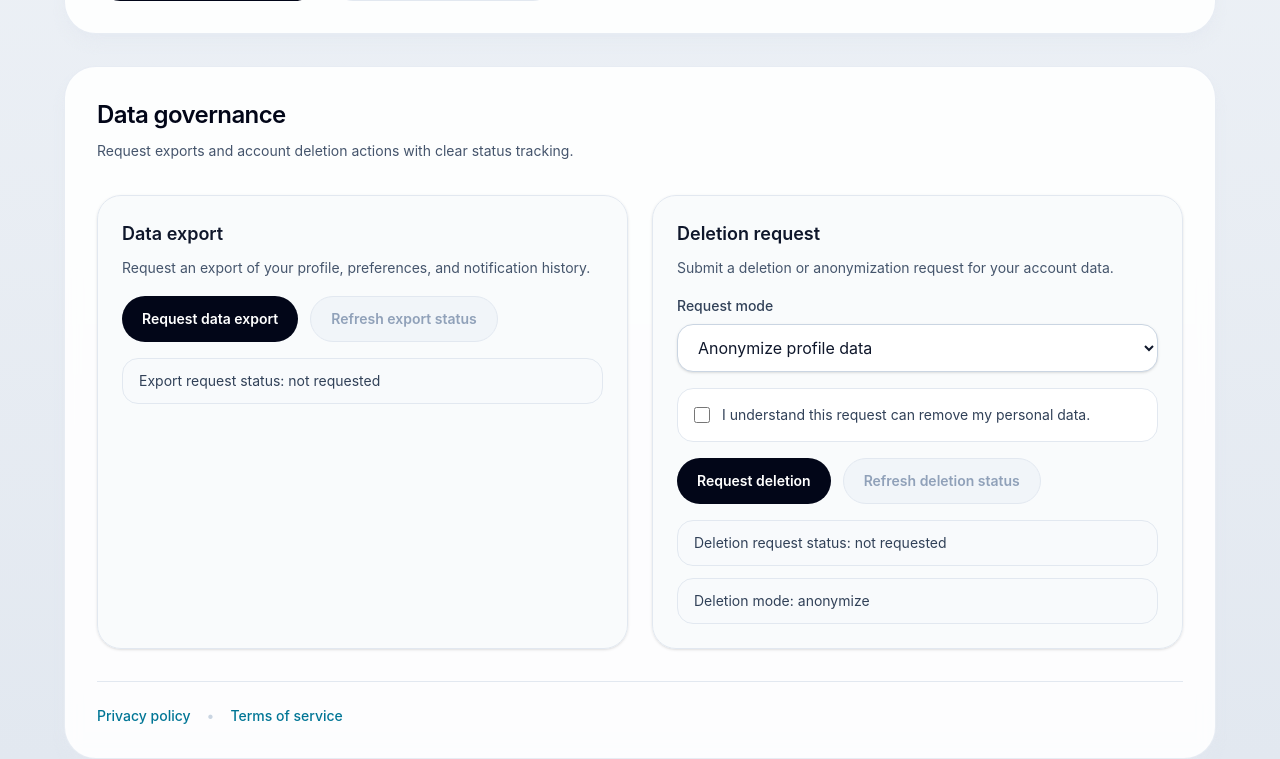
Test: SettingsPreferencesForm › requires explicit confirmation before deletion request
(page scrolled)
Click the button "Request deletion" at (754, 481), box [677, 458, 831, 504]
(page scrolled)
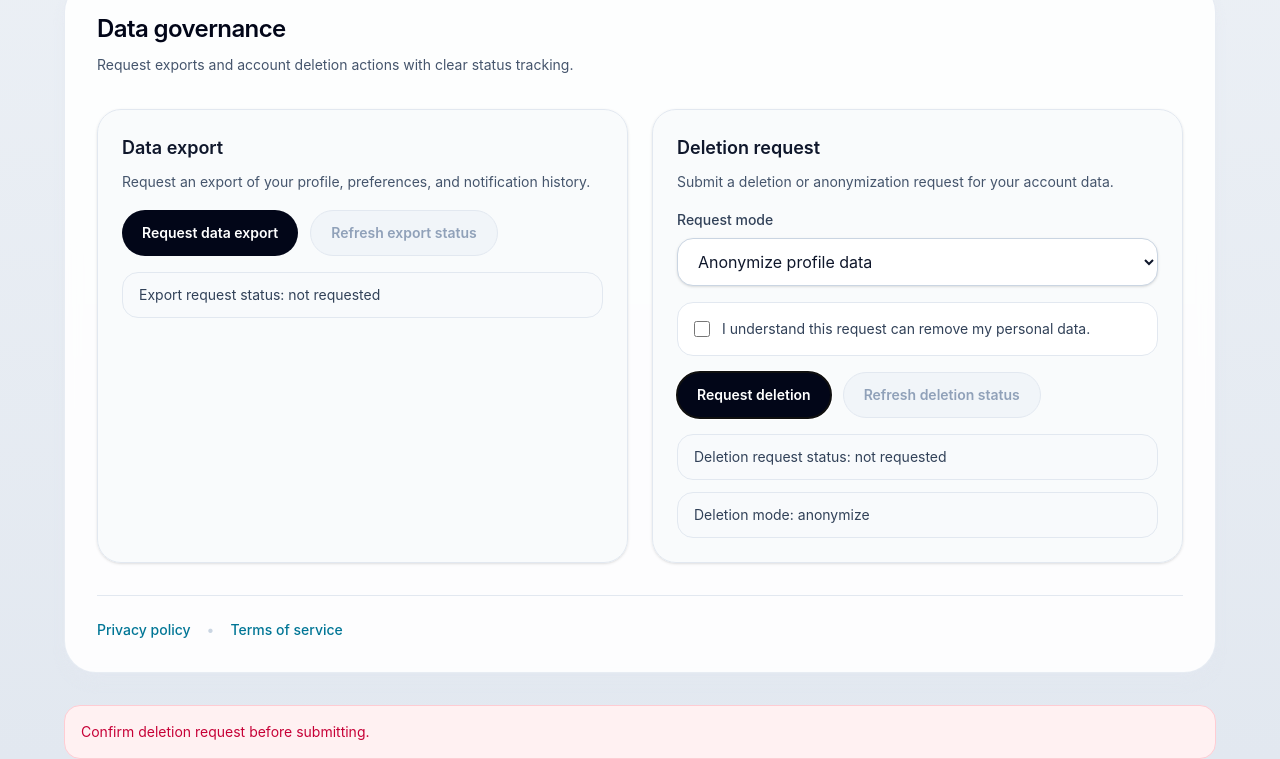
Expected: the message reads "Confirm deletion request before submitting.", [81, 723, 370, 740]
